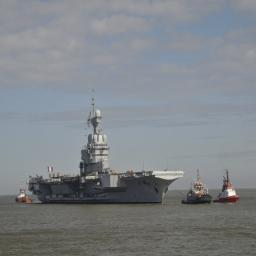Portanaves: (27, 88, 187, 207)
